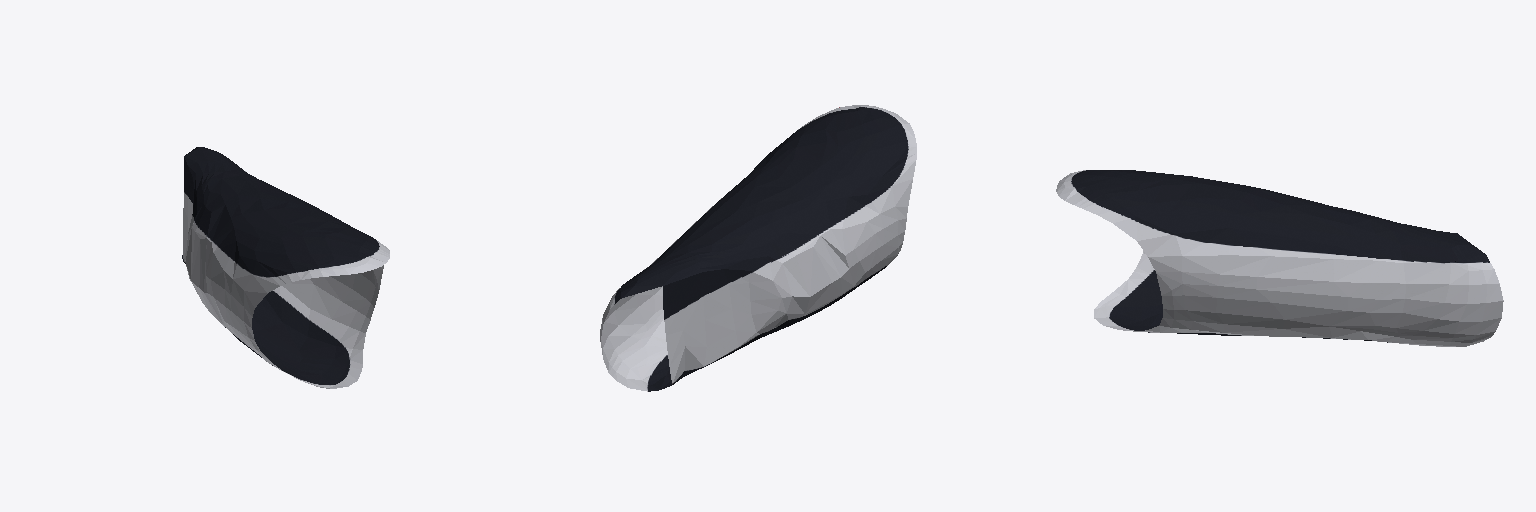
The picture shows the model from 3 angles: view 1: azimuth 30°, elevation 25°; view 2: azimuth 150°, elevation 25°; view 3: azimuth 270°, elevation 25°; orthographic projection.
Parts seen in each view (by area): view 1: L_HIP_P-461-FACES; view 2: L_HIP_P-461-FACES; view 3: L_HIP_P-461-FACES.
Part boxes in pixels (bbox=[...]): L_HIP_P-461-FACES: bbox=[182, 147, 389, 388]; L_HIP_P-461-FACES: bbox=[600, 105, 916, 391]; L_HIP_P-461-FACES: bbox=[1056, 170, 1503, 346].
Size of the model in its own units: 0.1502 by 0.1476 by 0.4078.
1 materials, 1 textured.